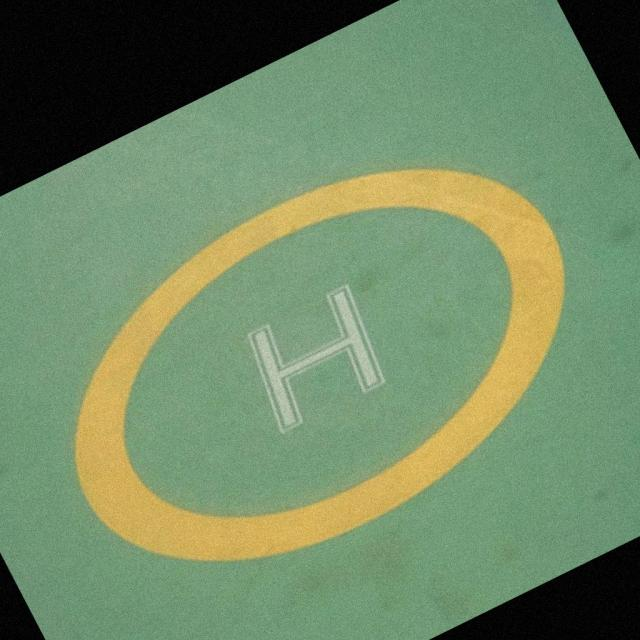helipad: (66, 161, 574, 570)
